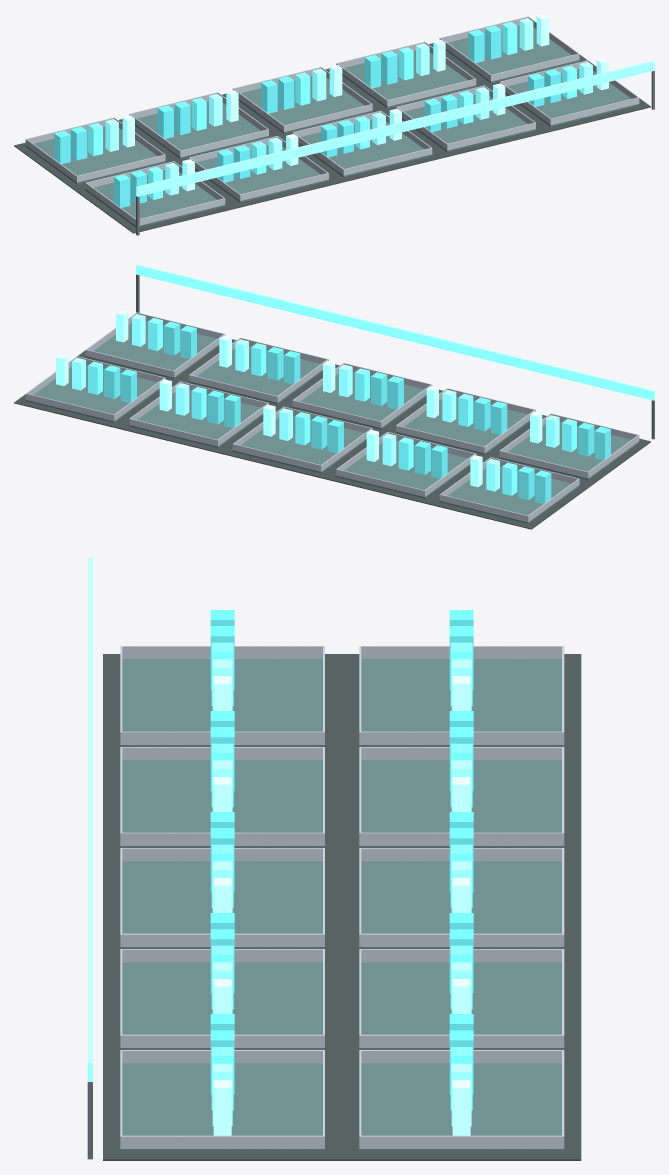
File: pack-non-profit-practice.glb
The picture shows the model from 3 angles, top to bottom: view 1: azimuth 30°, elevation 25°; view 2: azimuth 150°, elevation 25°; view 3: azimuth 270°, elevation 25°; orthographic projection. The views are drawn at different scales.
Visible parts, largest first — view 1: Non-Profit Practice; view 2: Non-Profit Practice; view 3: Non-Profit Practice.
Part boxes in pixels (x1=…): Non-Profit Practice: x1=14, y1=14, x2=654, y2=235; Non-Profit Practice: x1=14, y1=264, x2=654, y2=529; Non-Profit Practice: x1=87, y1=558, x2=581, y2=1160.
Size of the model in its own units: 70 by 6.3 by 28.9.
